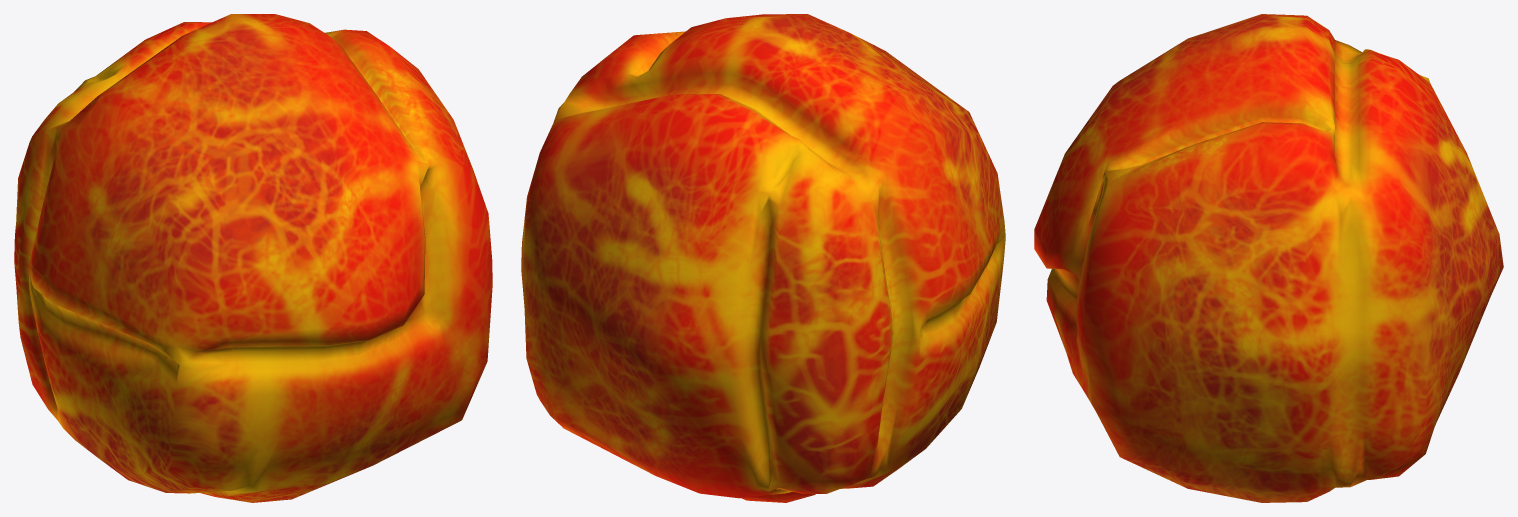
The model's file is fireball.obj.
3 renders of one model, left to right at view 1: azimuth 30°, elevation 25°; view 2: azimuth 150°, elevation 25°; view 3: azimuth 270°, elevation 25°, orthographic. The views are drawn at different scales.
Parts seen in each view (by area): view 1: Bolita_fuego_Mesh; view 2: Bolita_fuego_Mesh; view 3: Bolita_fuego_Mesh.
Part boxes in pixels (box(x1,y1,x2,y2)): Bolita_fuego_Mesh: box(14, 14, 492, 502); Bolita_fuego_Mesh: box(521, 14, 1005, 502); Bolita_fuego_Mesh: box(1034, 14, 1503, 502).
Size of the model in its own units: 1.3 by 1.4 by 1.3.
